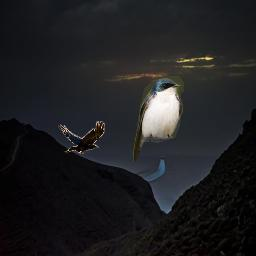Crow: (58, 121, 105, 154)
Swallow: (133, 75, 184, 163)
